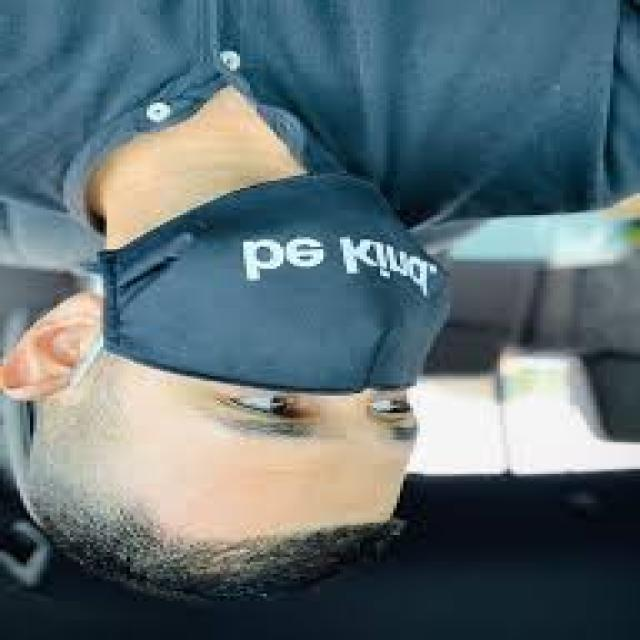mask: (79, 164, 472, 412)
